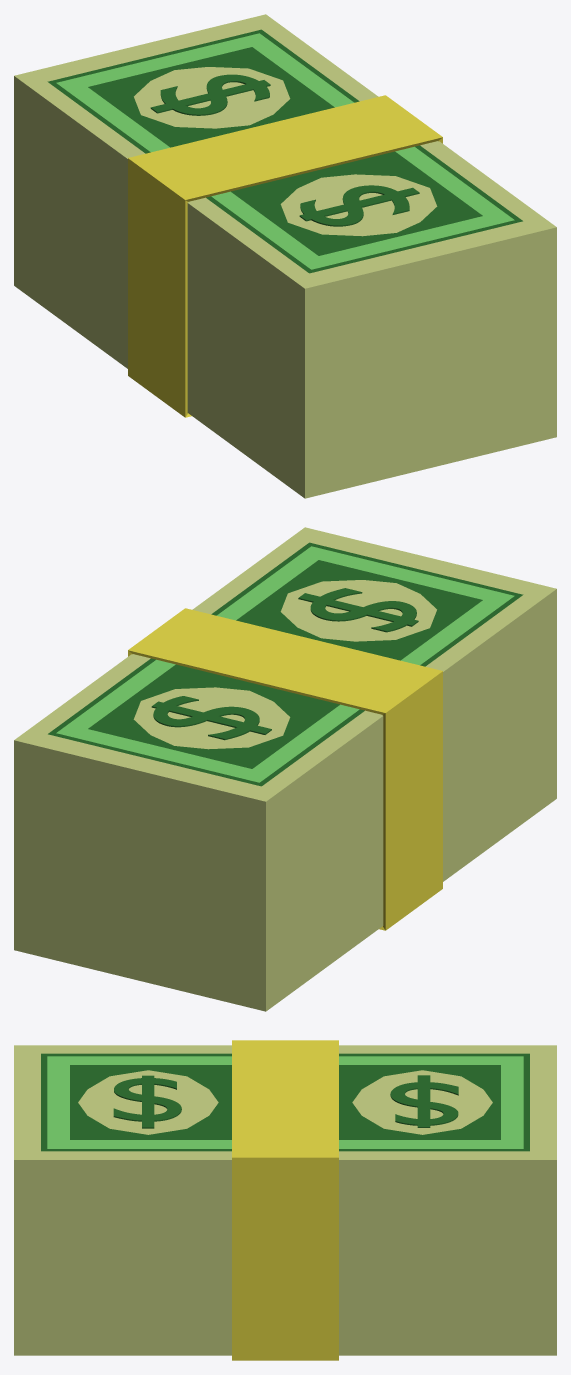
File: Money Stack.fbx
The picture shows the model from 3 angles, top to bottom: view 1: azimuth 30°, elevation 25°; view 2: azimuth 150°, elevation 25°; view 3: azimuth 270°, elevation 25°; orthographic projection. The views are drawn at different scales.
Parts seen in each view (by area): view 1: Money Stack; view 2: Money Stack; view 3: Money Stack.
Boxes of the visible parts, x1,y1,x2,y2 form: Money Stack: [14, 14, 556, 498]; Money Stack: [14, 527, 556, 1011]; Money Stack: [14, 1040, 556, 1360].
Size of the model in its own units: 0.5115 by 0.4127 by 1.
